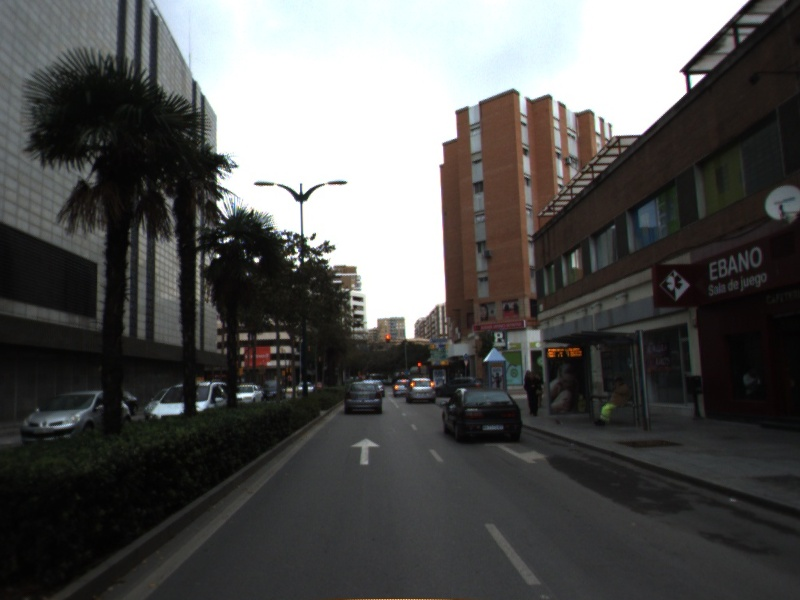STRAIGHT: (349, 436, 382, 466)
